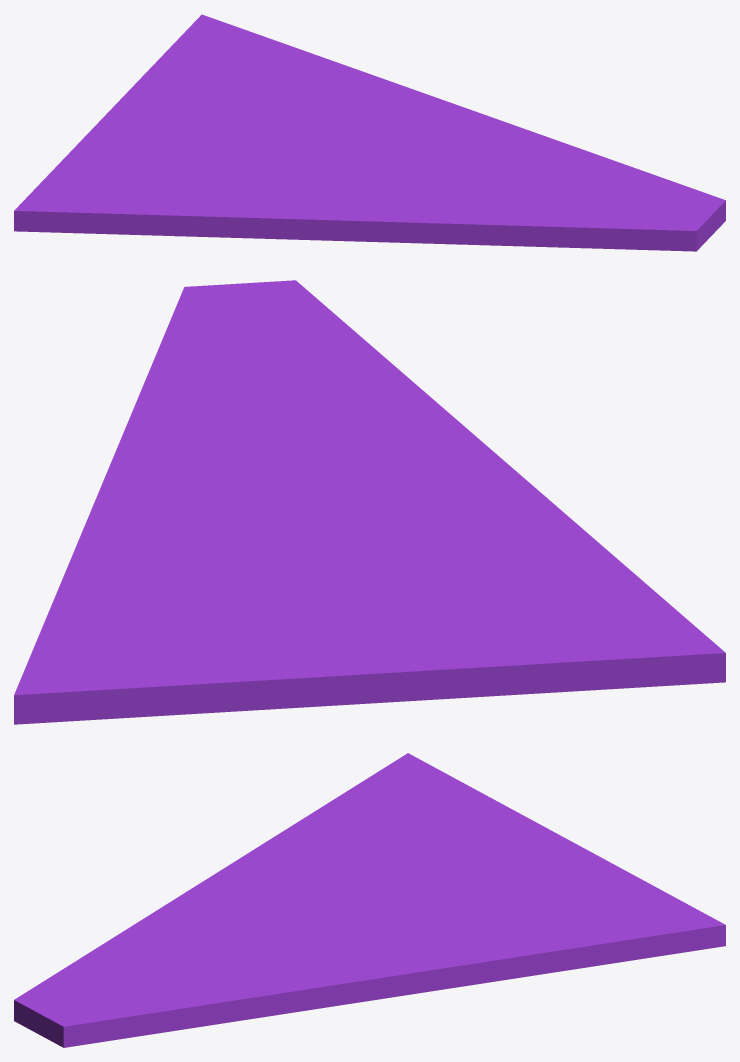
The model's file is StairsStep_19_chunks.fbx.
3 renders of one model, top to bottom at view 1: azimuth 30°, elevation 25°; view 2: azimuth 150°, elevation 25°; view 3: azimuth 270°, elevation 25°, orthographic. The views are drawn at different scales.
Visible parts, largest first — view 1: StairsStep_19_0, StairsStep_19_3, StairsStep_19_2; view 2: StairsStep_19_0, StairsStep_19_3, StairsStep_19_2, StairsStep_19_1; view 3: StairsStep_19_3, StairsStep_19_0, StairsStep_19_2.
Boxes of the visible parts, box(x1,y1,x2,y2) form: StairsStep_19_0: box(14, 112, 441, 243); StairsStep_19_3: box(109, 14, 517, 166); StairsStep_19_2: box(412, 126, 725, 251); StairsStep_19_0: box(309, 419, 725, 701); StairsStep_19_3: box(14, 448, 367, 724); StairsStep_19_2: box(117, 280, 455, 475); StairsStep_19_1: box(238, 676, 393, 711); StairsStep_19_3: box(297, 839, 725, 1005); StairsStep_19_0: box(161, 753, 567, 925); StairsStep_19_2: box(14, 908, 336, 1047).
Bounding box in the file's own units: 498 × 17.94 × 547.
